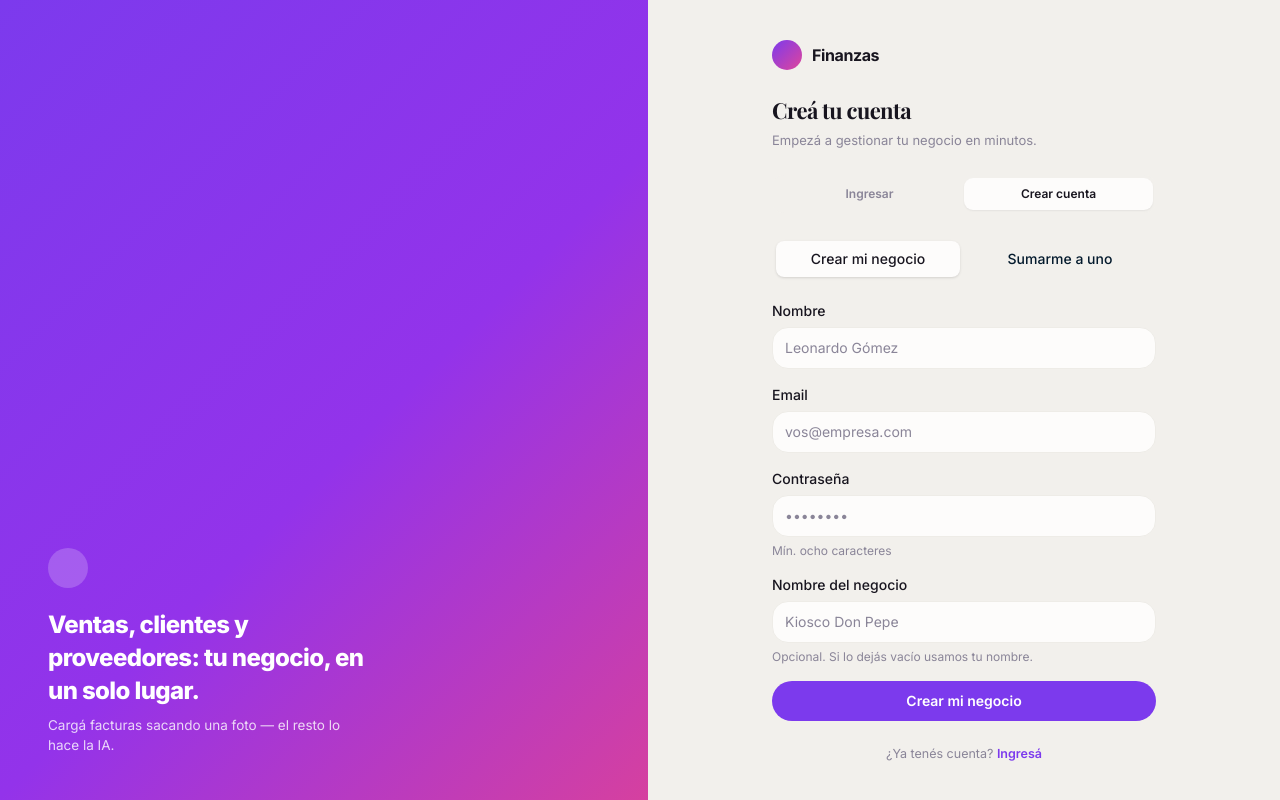
Test: RegisterPage — dos caminos › un código rechazado muestra un mensaje único, sin revelar el motivo
The image size is (1280, 800).
Click the radio button labelled "Sumarme a uno".
click(1060, 258)  # box 968,240 -> 1152,276
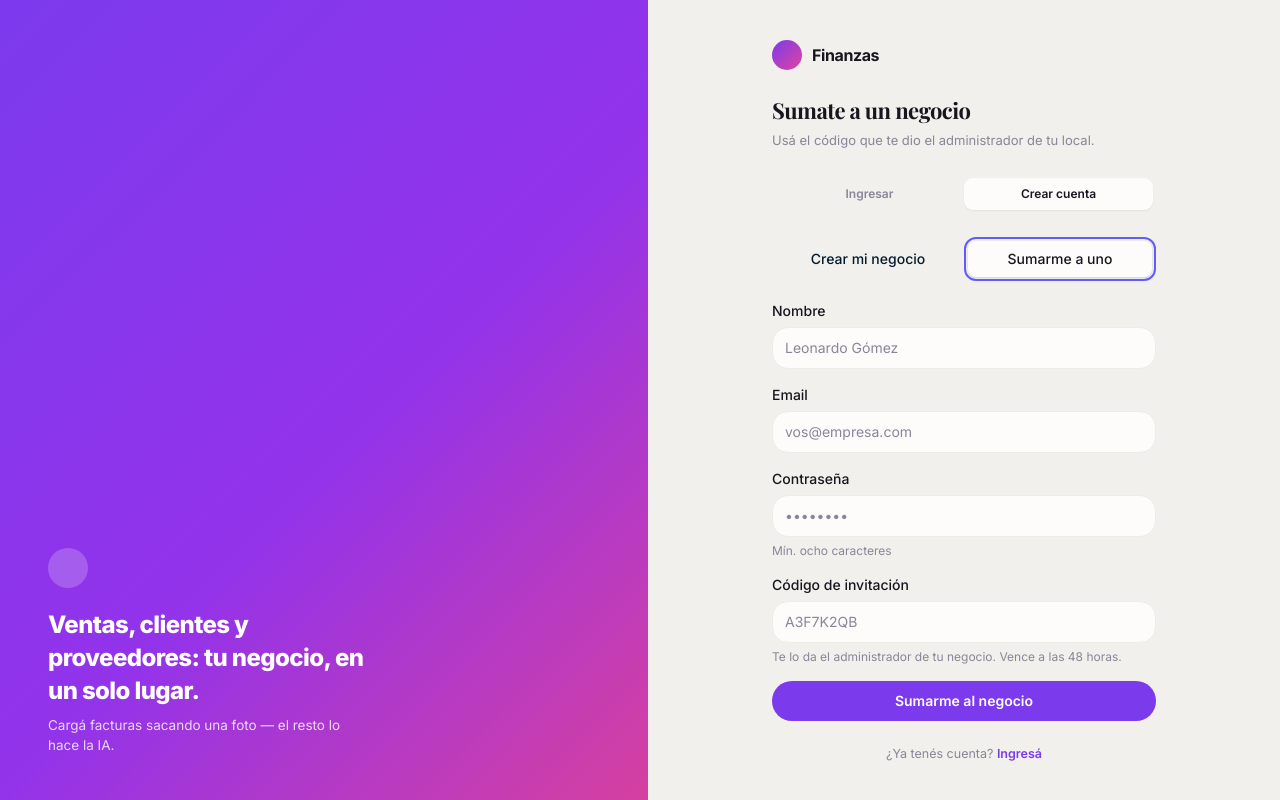
Type "Empleado" into the field labelled "Nombre".
click(964, 348); type("Empleado")  # box 772,326 -> 1156,368
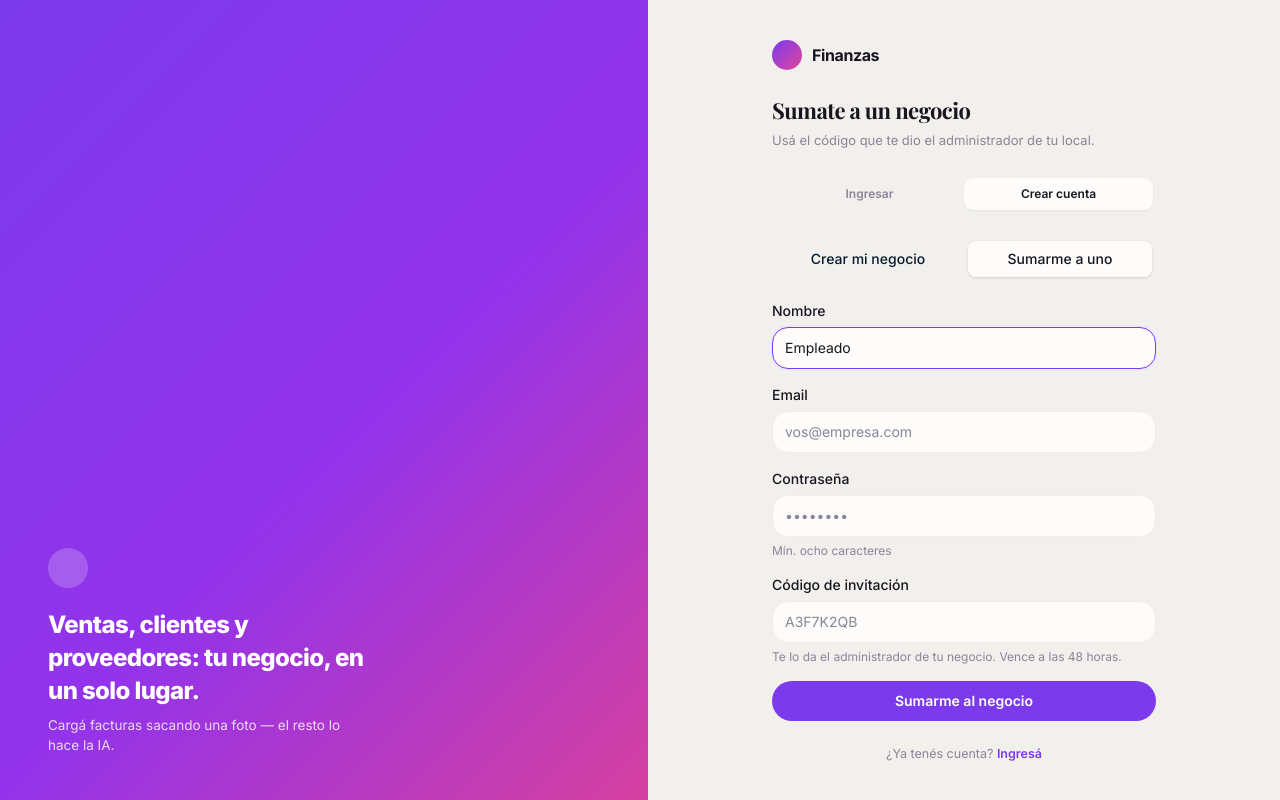
Type "emp@test.com" into the field labelled "Email".
click(964, 432); type("emp@test.com")  # box 772,410 -> 1156,452
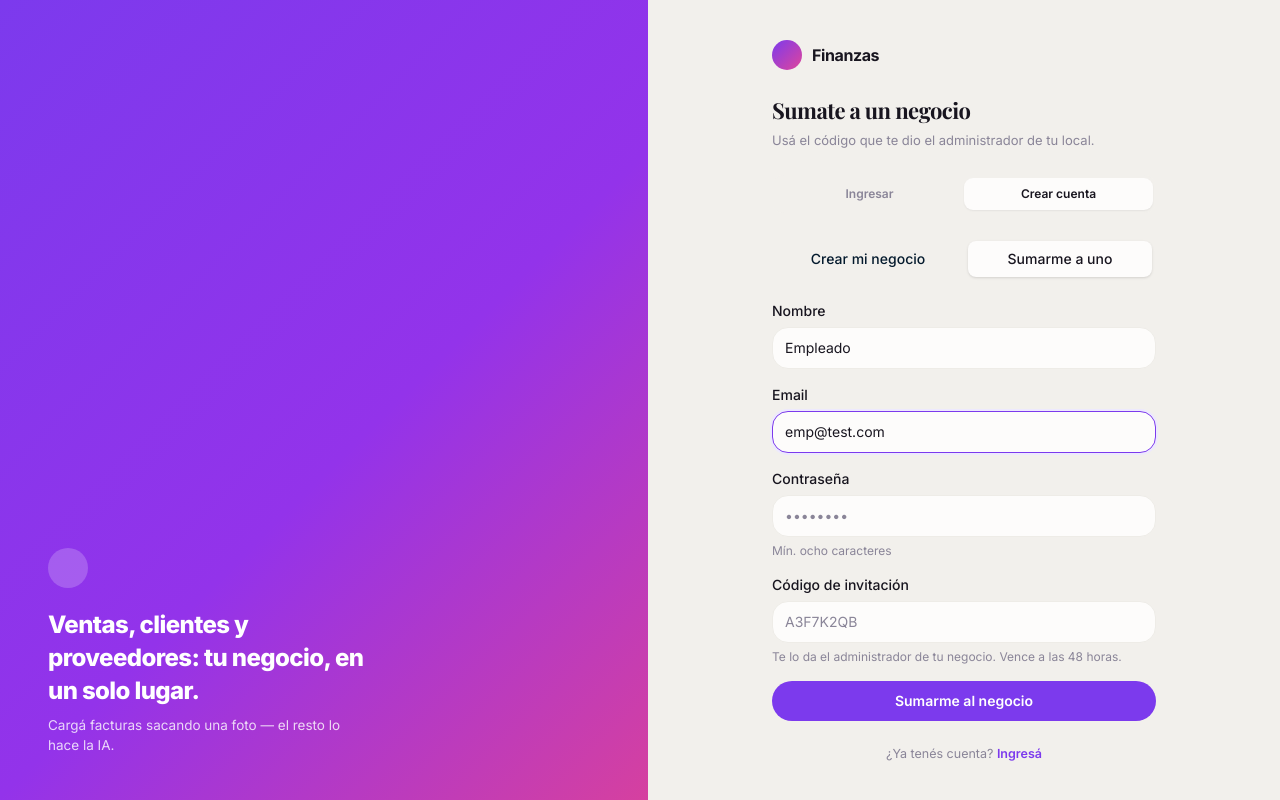
Type "password123" into the password field labelled "Contraseña".
click(964, 516); type("password123")  # box 772,494 -> 1156,536
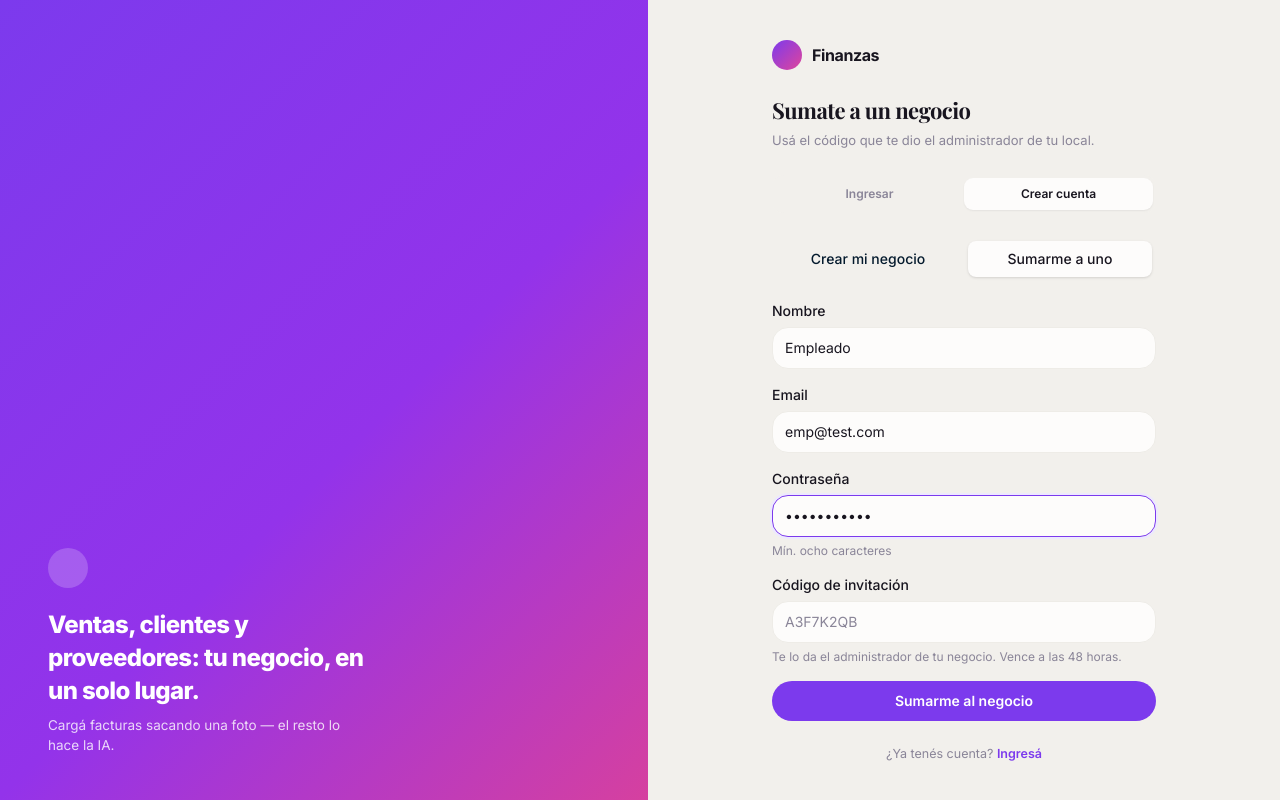
Type "ZZZZ2345" into the field labelled "Código de invitación".
click(964, 622); type("ZZZZ2345")  # box 772,600 -> 1156,642
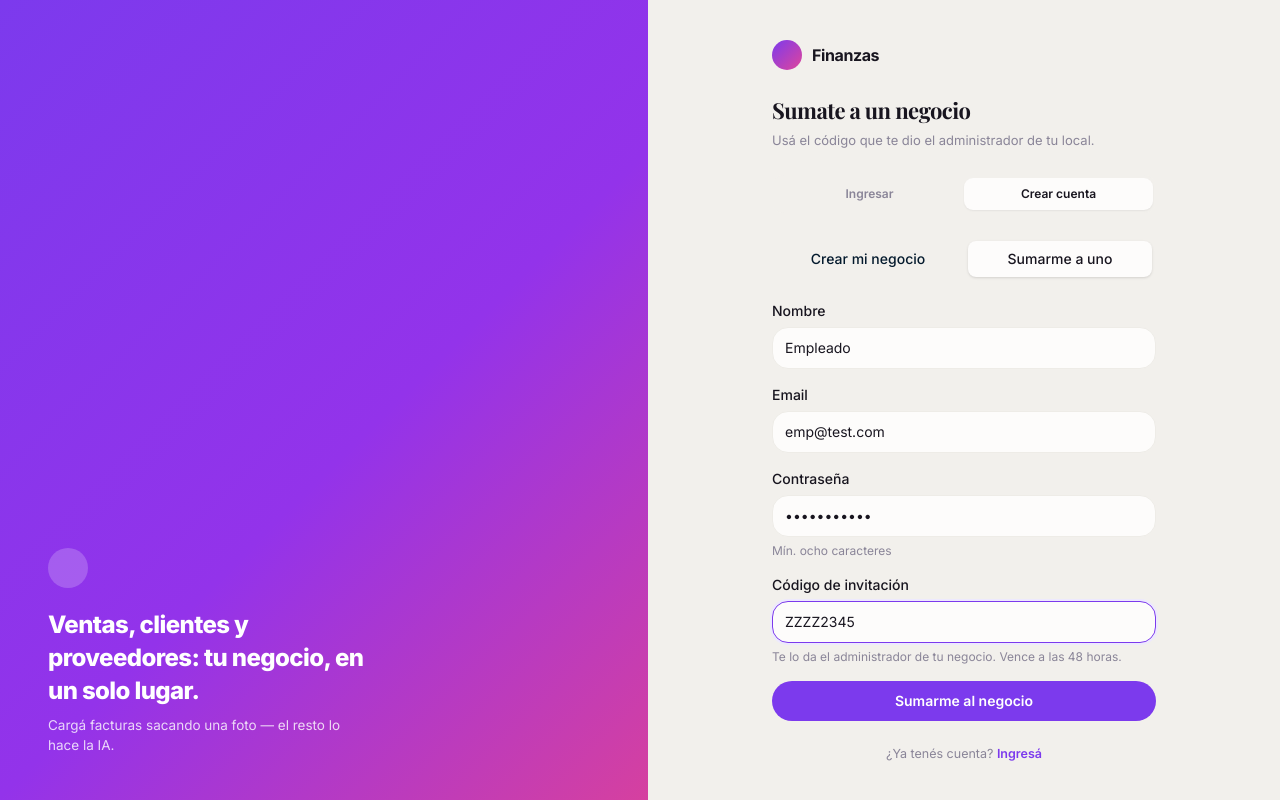
Click the button "Sumarme al negocio".
click(964, 700)  # box 772,680 -> 1156,720
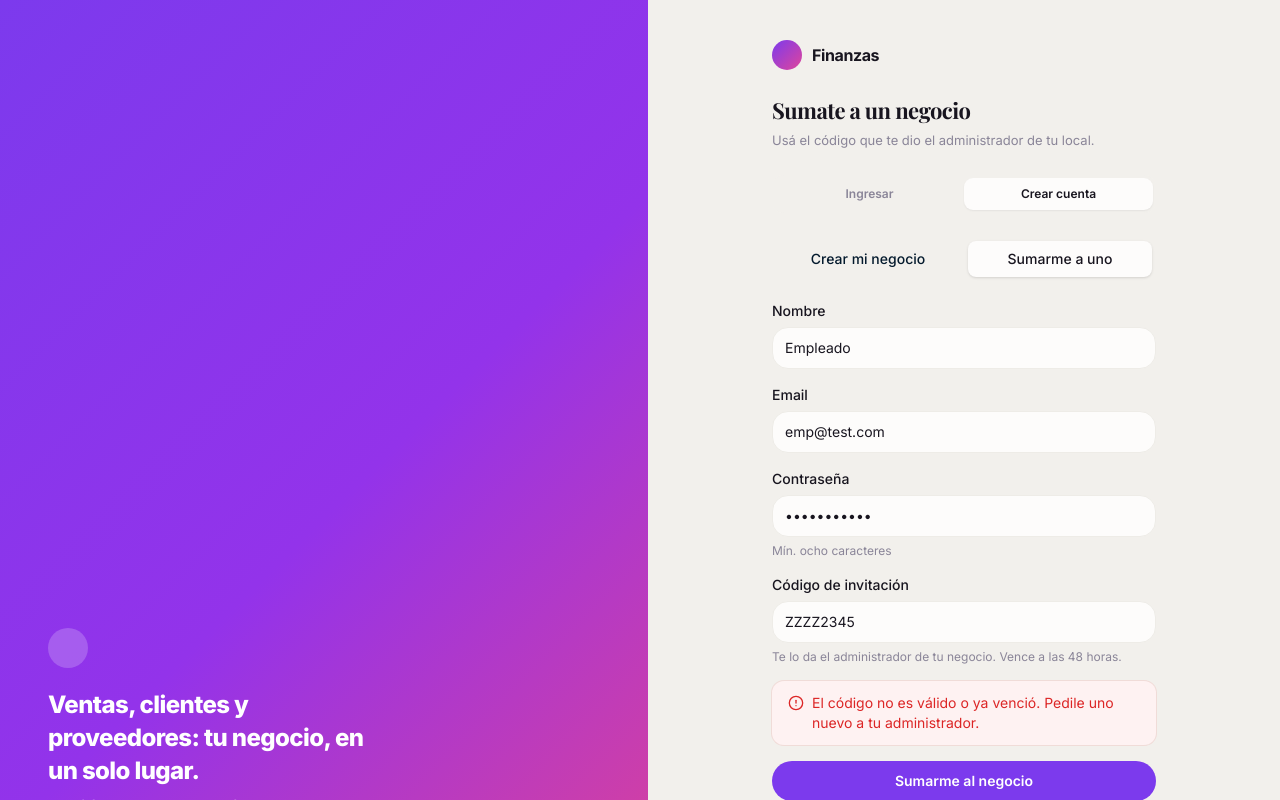
Expected: the message shows "Pedile uno nuevo a tu administrador", 812,694 -> 1114,730
